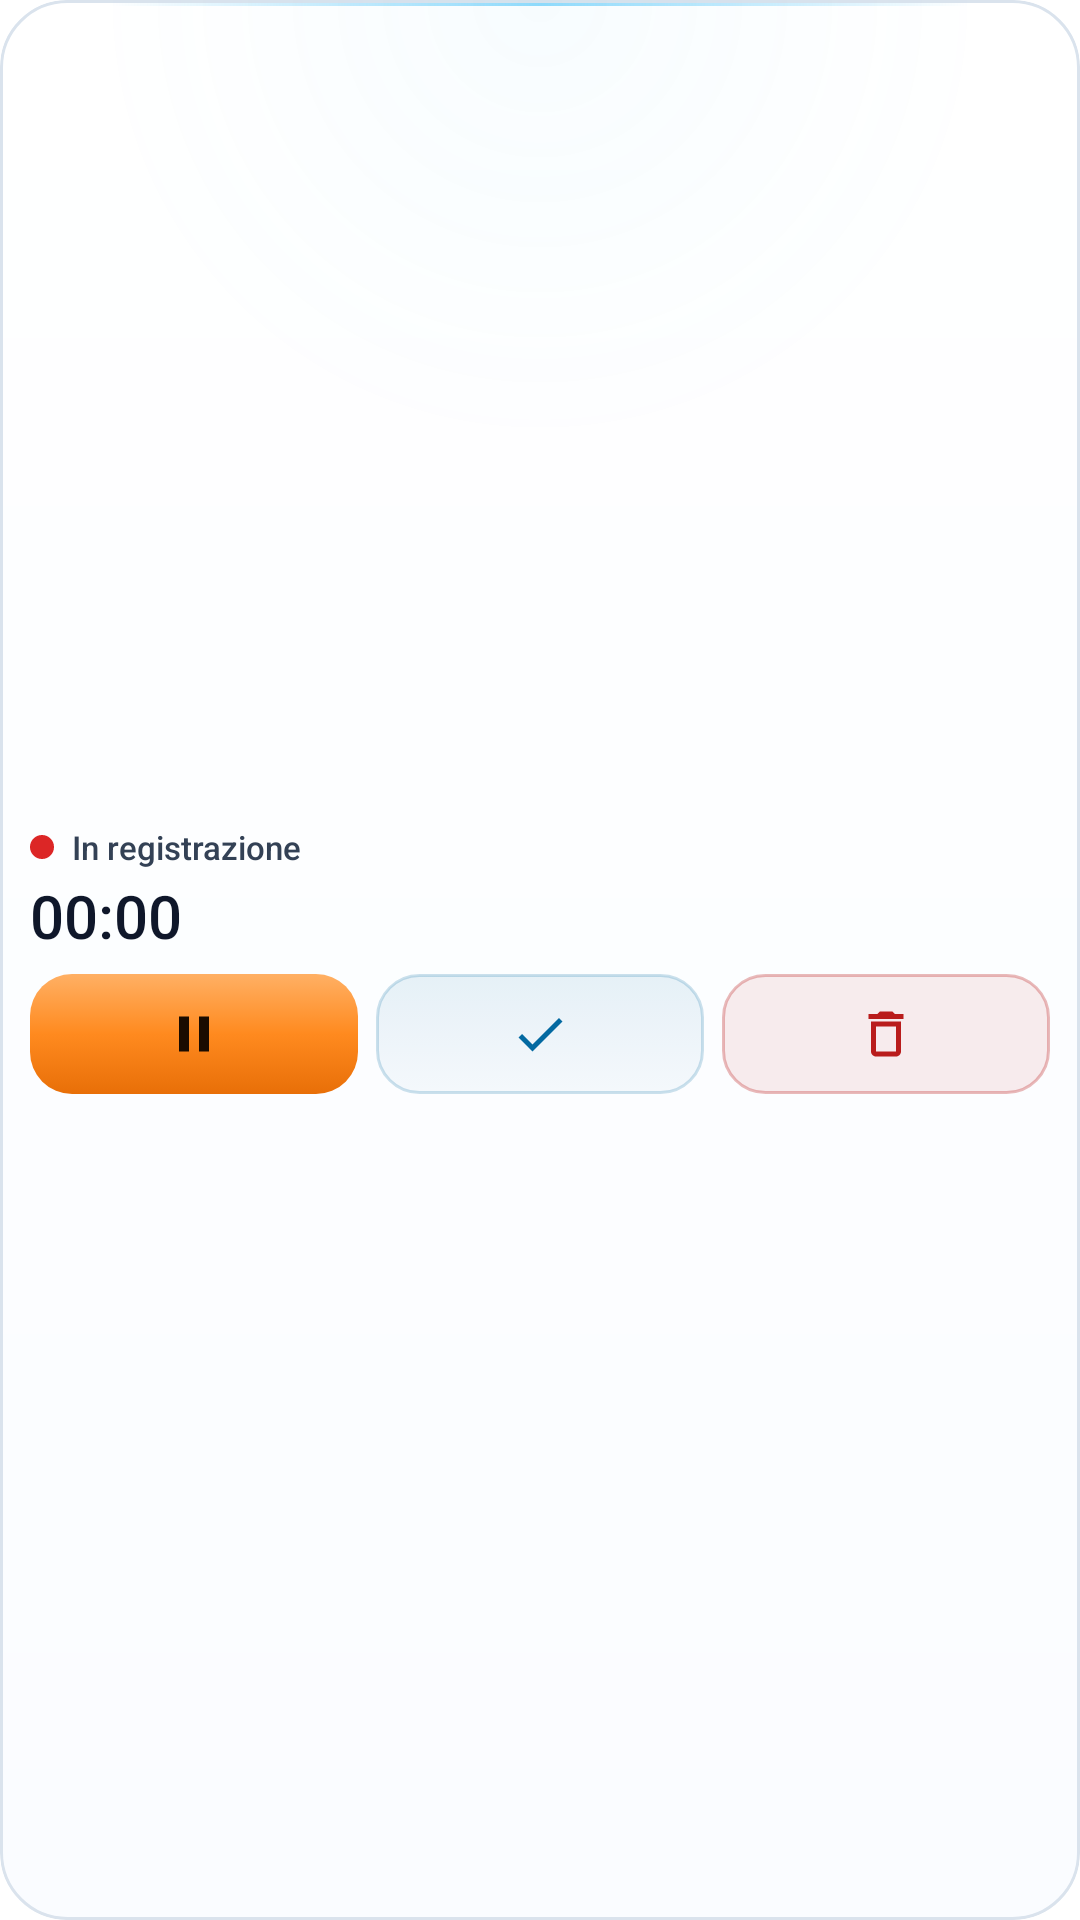

Where to tap for icons on this 1080w x 1920h app screen, as [x,y]:
widget check: [540,1035]
widget delete: [886,1034]
widget pause: [194,1034]
widget rec dot: [42,847]
